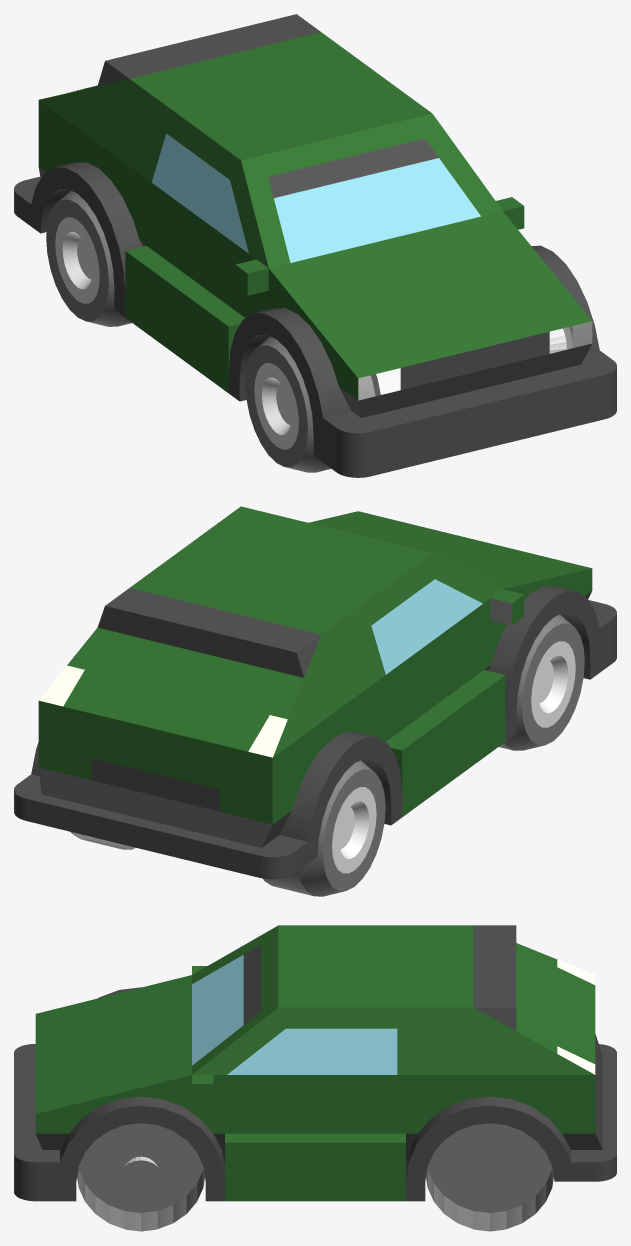
The picture shows the model from 3 angles, top to bottom: view 1: azimuth 30°, elevation 25°; view 2: azimuth 150°, elevation 25°; view 3: azimuth 270°, elevation 25°; orthographic projection. The views are drawn at different scales.
Visible parts, largest first — view 1: body.004, wheel_frontRight.004, wheel_backRight.004; view 2: body.004, wheel_backRight.004, wheel_frontRight.004; view 3: body.004, wheel_backLeft.004, wheel_frontLeft.004.
Part boxes in pixels (x1,y1,x2,y2): body.004: [14, 14, 616, 477]; wheel_frontRight.004: [245, 336, 375, 472]; wheel_backRight.004: [46, 190, 131, 326]; body.004: [14, 506, 616, 879]; wheel_backRight.004: [263, 760, 385, 896]; wheel_frontRight.004: [499, 614, 584, 750]; body.004: [14, 925, 616, 1201]; wheel_backLeft.004: [426, 1123, 553, 1231]; wheel_frontLeft.004: [77, 1123, 204, 1231].
Bounding box in the file's own units: 1.3 × 1.1 × 2.8.
